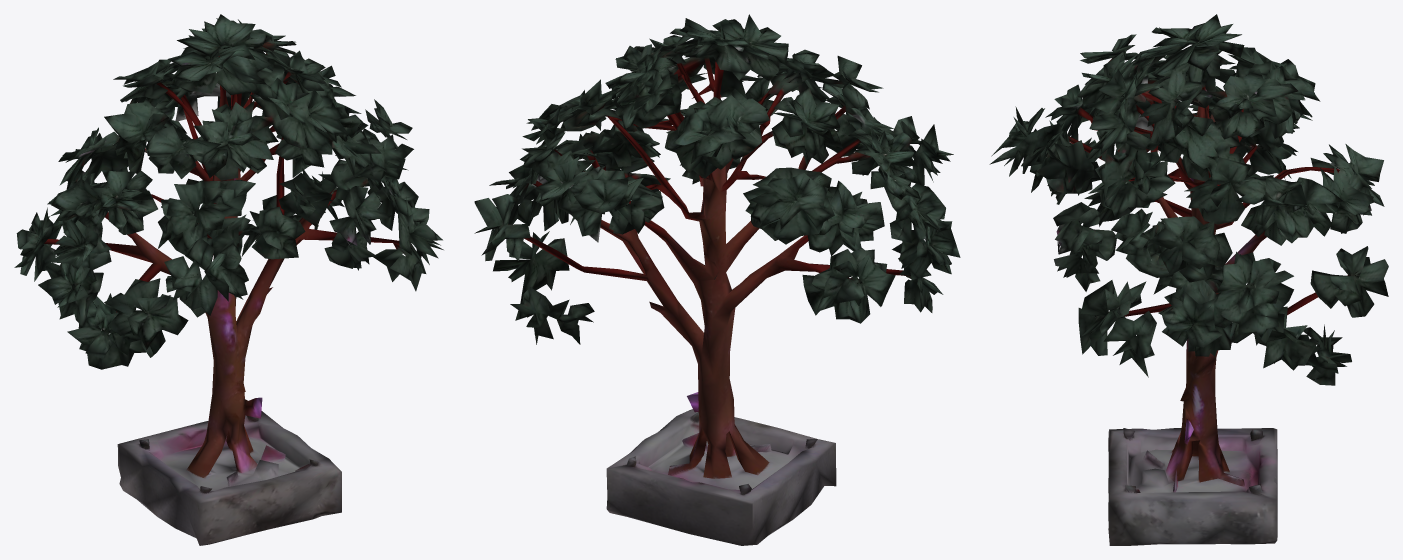
The model's file is 11_tree.glb.
The picture shows the model from 3 angles, left to right: view 1: azimuth 30°, elevation 25°; view 2: azimuth 150°, elevation 25°; view 3: azimuth 270°, elevation 25°; orthographic projection. The views are drawn at different scales.
Visible parts, largest first — view 1: TREE_WITH_PLANTER; view 2: TREE_WITH_PLANTER; view 3: TREE_WITH_PLANTER.
Boxes of the visible parts, x1,y1,x2,y2 form: TREE_WITH_PLANTER: [14, 14, 443, 545]; TREE_WITH_PLANTER: [474, 14, 960, 545]; TREE_WITH_PLANTER: [989, 14, 1388, 545].
Size of the model in its own units: 1.96 by 2.2 by 1.66.
Materials: 1 (1 with a texture image).
